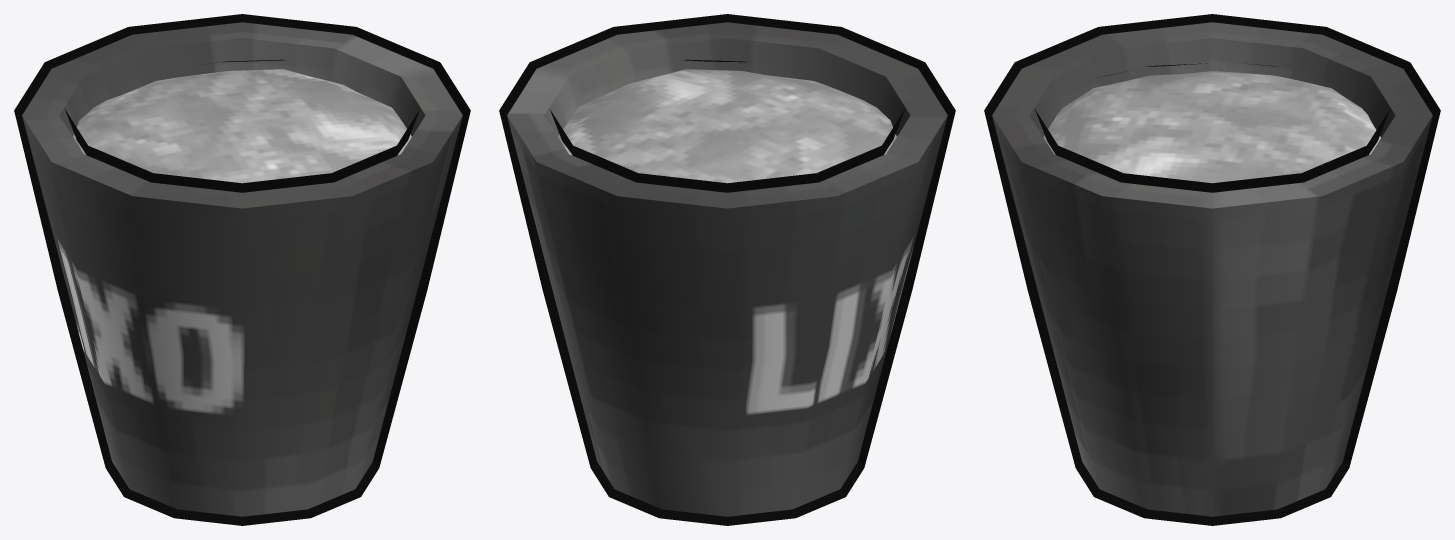
The model's file is Lixeira.glb.
3 views of the same model, side by side, from view 1: azimuth 30°, elevation 25°; view 2: azimuth 150°, elevation 25°; view 3: azimuth 270°, elevation 25° (orthographic).
Visible parts, largest first — view 1: Lixeira; view 2: Lixeira; view 3: Lixeira.
Boxes of the visible parts, x1=… form: Lixeira: x1=14, y1=14, x2=470, y2=525; Lixeira: x1=499, y1=14, x2=955, y2=525; Lixeira: x1=984, y1=14, x2=1440, y2=525.
Size of the model in its own units: 0.9973 by 0.8733 by 0.9973.
Materials: 2 (1 with a texture image).
